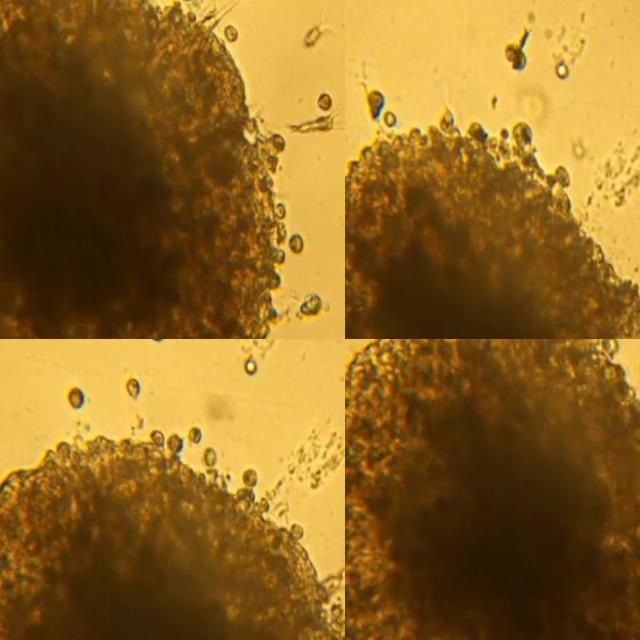cell: (290, 105, 342, 128), (505, 20, 528, 70), (299, 285, 323, 312), (369, 90, 386, 121), (304, 18, 325, 41), (68, 388, 84, 409), (203, 444, 218, 464), (244, 355, 260, 373), (128, 375, 141, 397), (319, 86, 334, 105), (189, 422, 203, 441), (557, 58, 572, 74), (291, 230, 305, 247), (225, 20, 238, 38), (384, 111, 396, 125)
tumor_mass: (345, 339, 640, 640), (0, 428, 345, 640), (345, 105, 640, 339)
